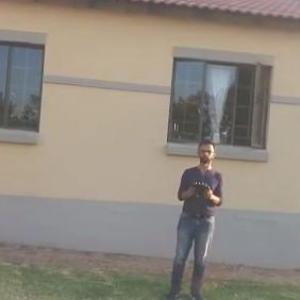follow: (160, 134, 225, 299)
